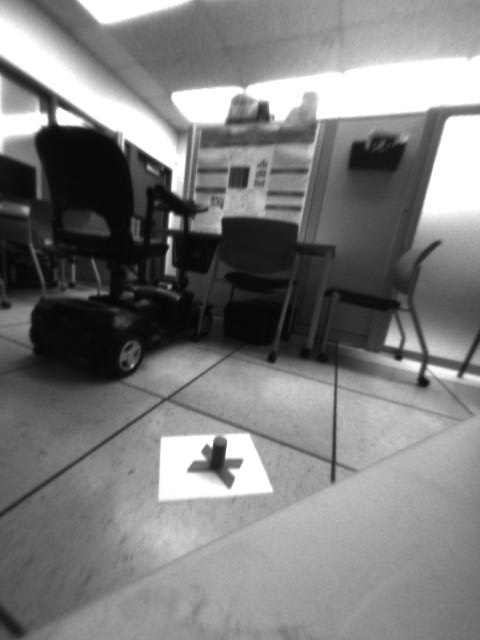X: (187, 435, 242, 490)
